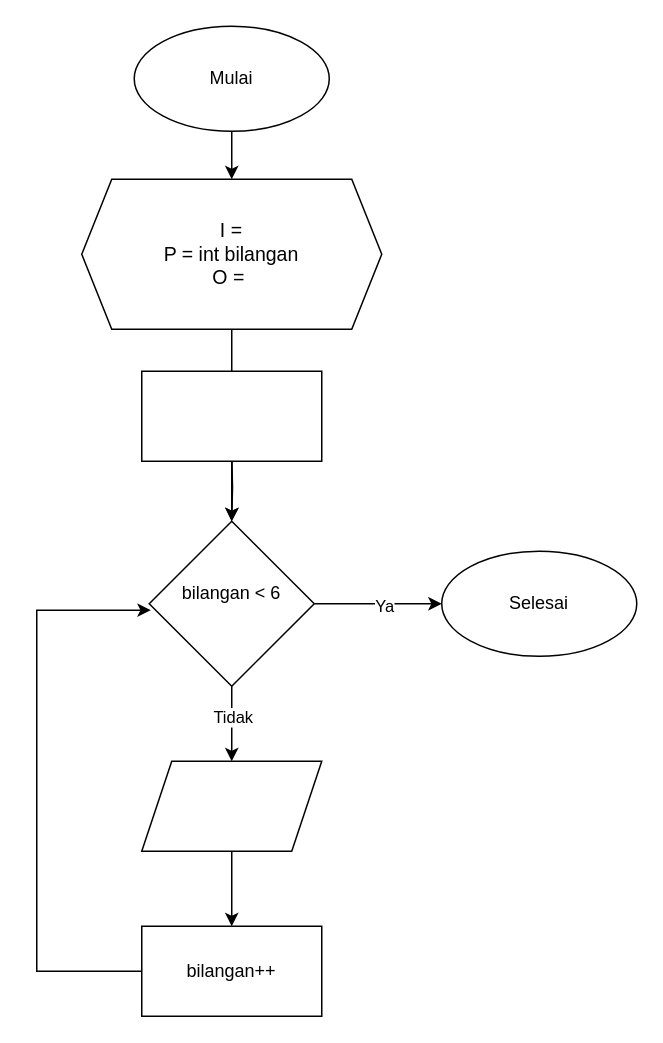
This 663x1043 diagram has some shape labels left out. The shapes that lost their labels are listed below. From the top down, each one's centre as x and y in pixels, then its label:
At point 231,415: "int bilangan = 1".
At point 231,805: "sop bilangan".
